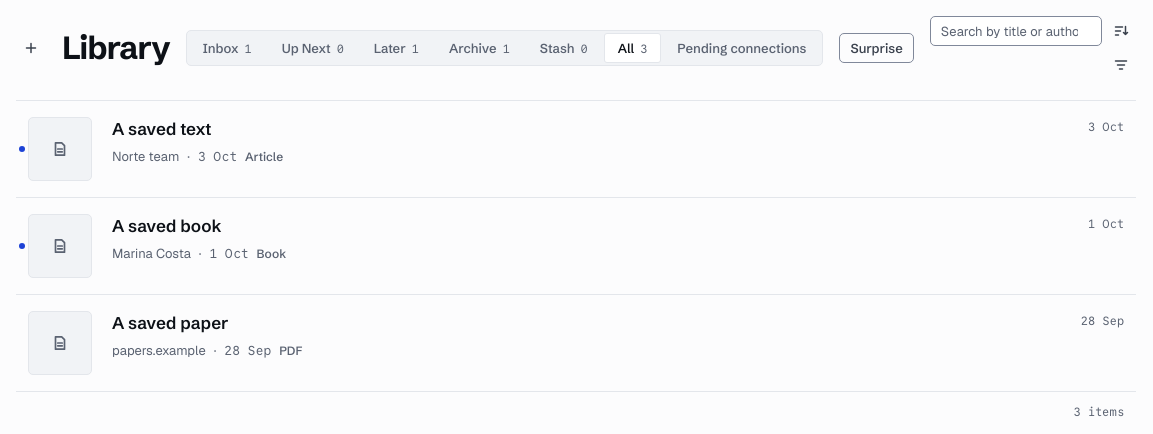
Test case: LibraryView while it waits, finds nothing, or fails › reports nothing found for a search that matches no row
Step 1. Type "xylophone" into the search field with id "library-search" → (1016, 31), box [930,16,1102,46]
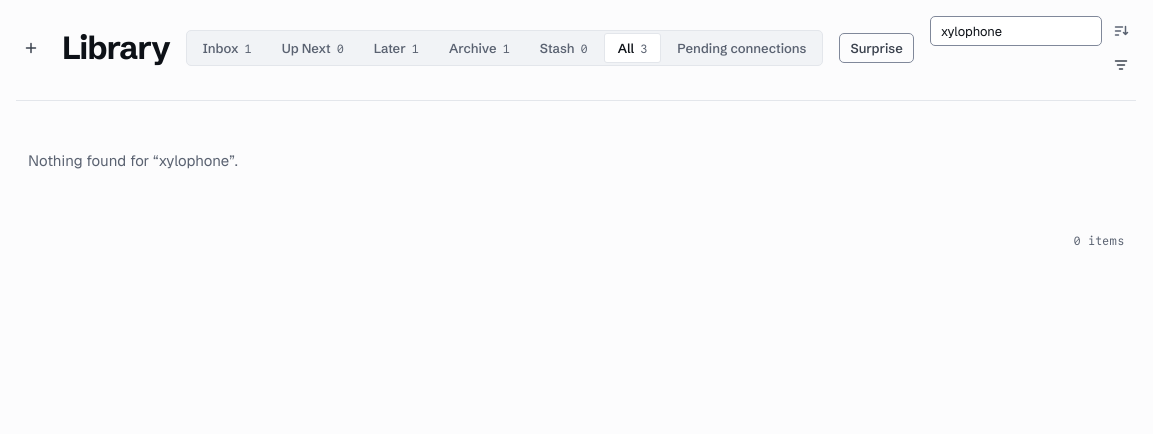
Result: the text with class "library-empty" reads "Nothing found for “xylophone”." at [28,151,238,170]
